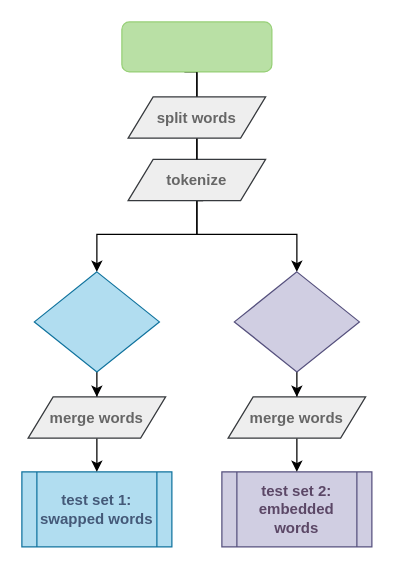
Some shapes in this 394 by 569 pixel diagram are drawn without their labels. Here are the shapes that lost their labels. From the top down, the box of each, then its label:
(121, 21, 272, 72): dataset
(33, 271, 159, 372): EDA
(233, 271, 359, 372): Word Embedding
